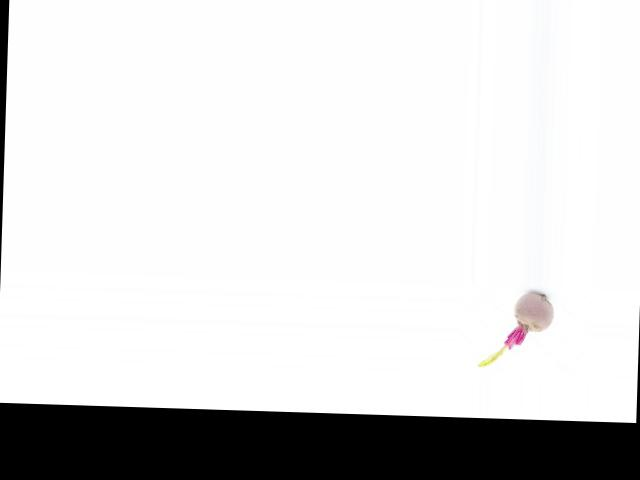beet: (478, 291, 555, 368)
